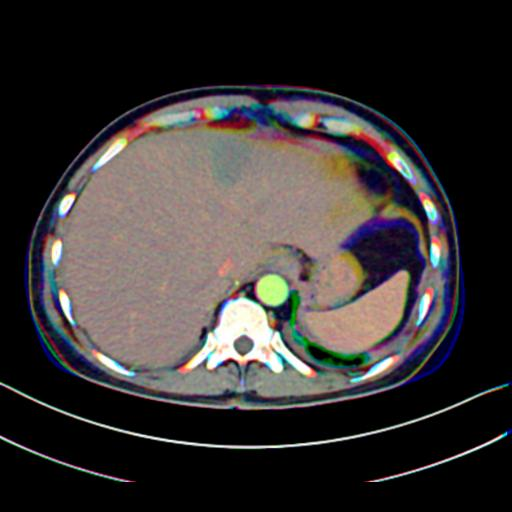Abscess: (211, 133, 253, 187)
